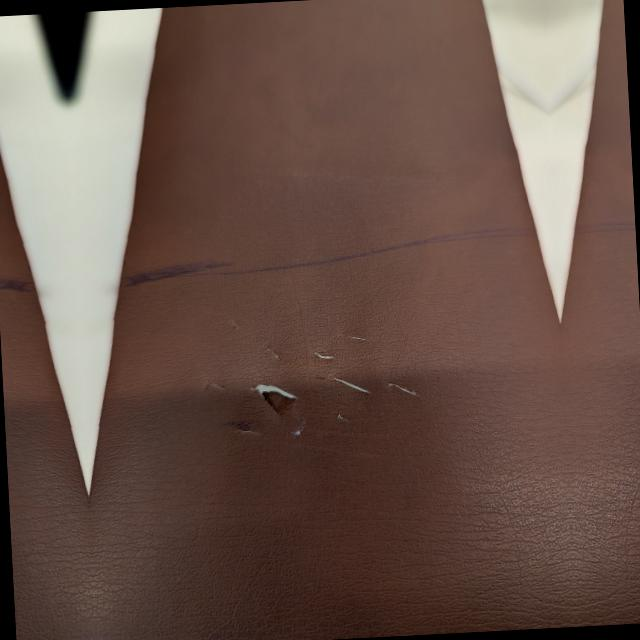belt_crack: (174, 300, 414, 431)
